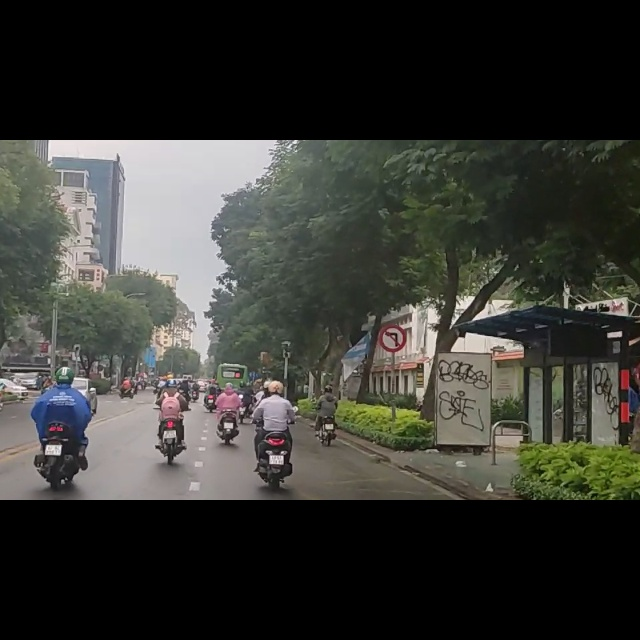bien_hieu_lenh: (380, 329, 407, 375)
